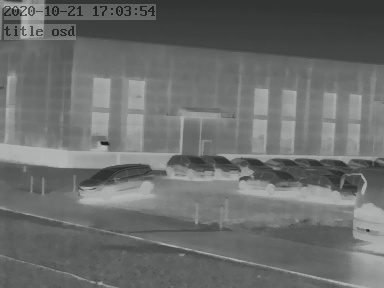vehicle: (81, 165, 164, 196), (300, 174, 357, 200), (237, 169, 303, 191), (165, 152, 214, 179), (203, 153, 243, 177), (232, 154, 270, 172), (343, 155, 379, 172), (261, 155, 296, 170), (319, 156, 351, 170), (295, 155, 326, 169)
